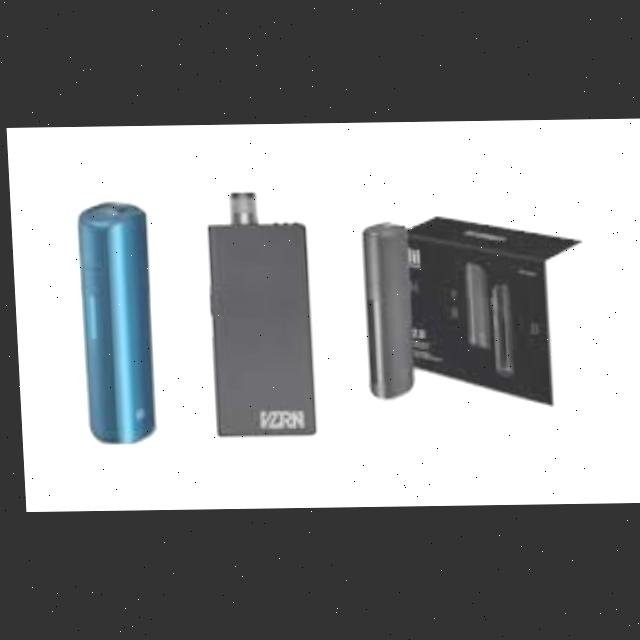vape: (201, 188, 314, 438), (73, 201, 153, 444), (357, 222, 411, 401), (462, 263, 488, 352), (488, 286, 511, 379)
